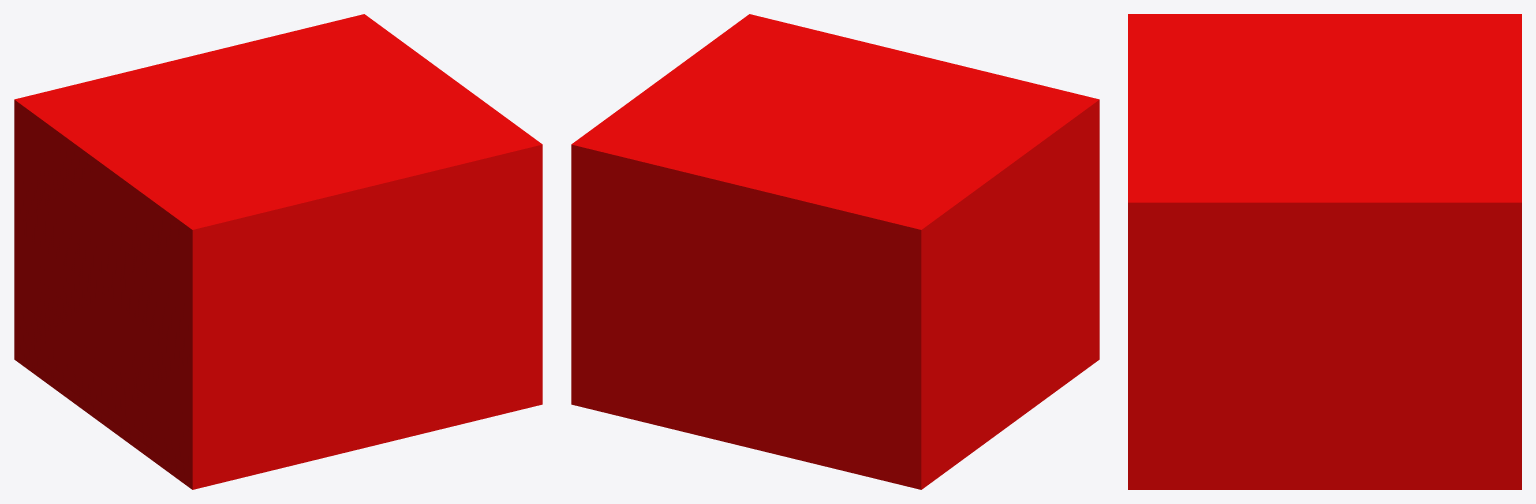
File: first_cuneiform_lv_col.dae
3 renders of one model, left to right at view 1: azimuth 30°, elevation 25°; view 2: azimuth 150°, elevation 25°; view 3: azimuth 270°, elevation 25°, orthographic. The views are drawn at different scales.
Visible parts, largest first — view 1: node0; view 2: node0; view 3: node0.
Boxes of the visible parts, box(x1,y1,x2,y2) form: node0: box(14, 14, 542, 489); node0: box(571, 14, 1099, 489); node0: box(1128, 14, 1521, 489).
Size of the model in its own units: 0.0299 by 0.0212 by 0.0264.
